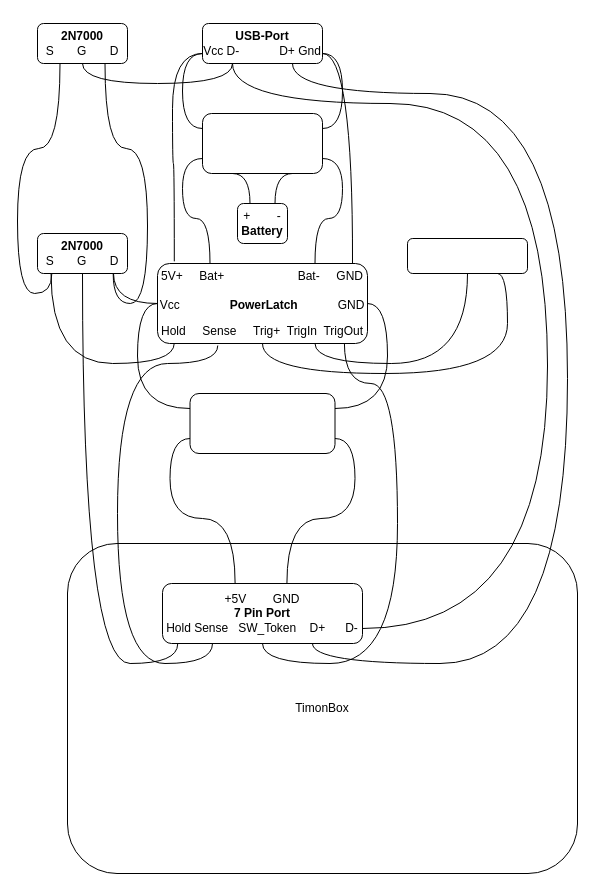
Image size: 595x891. Some labels were removed from this diagram. Here are the shapes that lost their labels. From the top down, the centre of each, then its label:
point (262, 143): + - TP4056 Out+ B+ B- Out-
point (467, 256): Switch NC NO C
point (262, 423): In+ In- BoostConverter (5V) Out+ Out-
